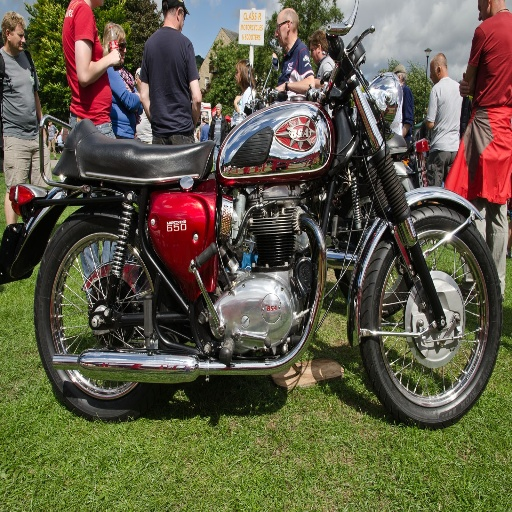hand: (458, 70, 475, 98), (108, 44, 120, 68), (273, 80, 285, 93)
